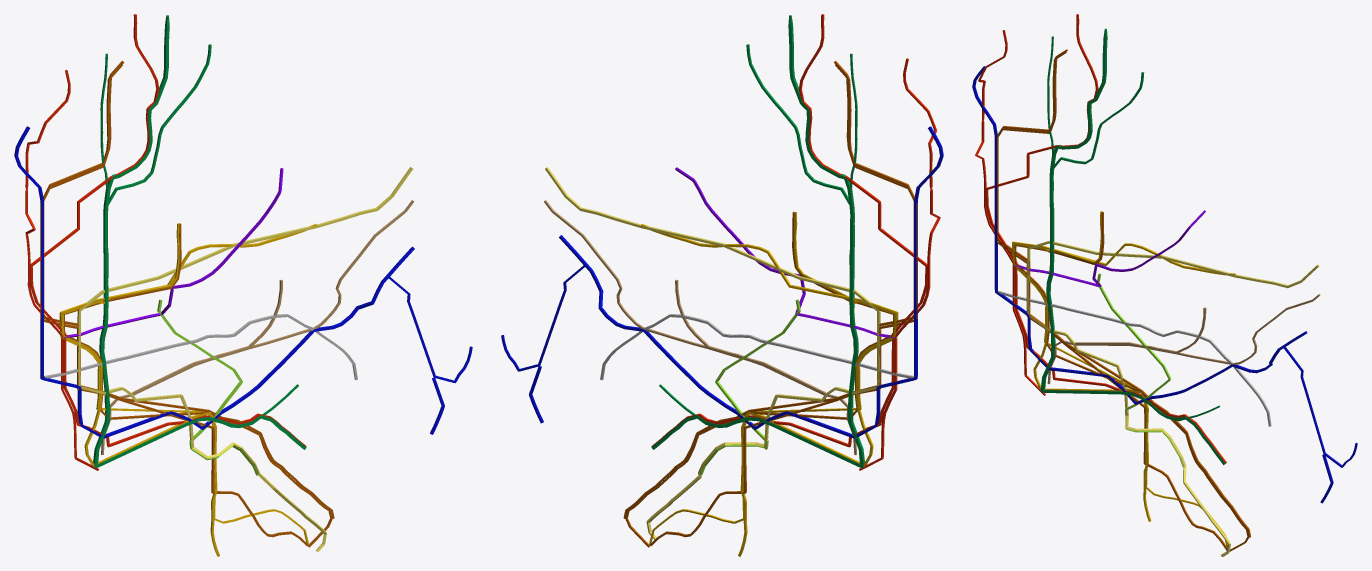
File: MTA.glb
3 renders of one model, left to right at view 1: azimuth 30°, elevation 25°; view 2: azimuth 150°, elevation 25°; view 3: azimuth 330°, elevation 25°, orthographic. The views are drawn at different scales.
Parts seen in each view (by area): view 1: 5, F, A, 2, R, D, B, 1, N, Q, L, JZ (+6 smaller); view 2: 5, A, F, 2, R, D, 1, B, N, L, Q, JZ (+6 smaller); view 3: F, 5, A, 2, B, R, D, 1, L, Q, N, 6 (+5 smaller).
Part boxes in pixels (box(x1,y1,x2,y2)): 5: box(93, 15, 306, 468); F: box(77, 167, 412, 552); A: box(14, 126, 414, 438); 2: box(30, 14, 306, 447); R: box(61, 224, 316, 556); D: box(40, 64, 308, 546); B: box(43, 60, 334, 518); 1: box(25, 69, 98, 470); N: box(59, 223, 309, 545); Q: box(63, 223, 332, 547); L: box(44, 314, 357, 379); JZ: box(101, 200, 414, 454); 5: box(651, 15, 864, 468); A: box(559, 126, 943, 438); F: box(545, 167, 880, 539); 2: box(651, 14, 927, 447); R: box(641, 224, 896, 556); D: box(650, 64, 917, 545); 1: box(859, 58, 940, 470); B: box(623, 61, 914, 518); N: box(649, 212, 898, 545); L: box(600, 314, 913, 379); Q: box(625, 211, 894, 547); JZ: box(544, 200, 856, 454); F: box(1027, 240, 1319, 556); 5: box(1040, 28, 1226, 465); A: box(972, 66, 1307, 404); 2: box(985, 14, 1226, 463); B: box(997, 49, 1250, 537); R: box(1012, 243, 1235, 521); D: box(997, 52, 1226, 550); 1: box(975, 30, 1045, 395); L: box(998, 290, 1271, 426); Q: box(1014, 211, 1248, 551); N: box(1012, 211, 1227, 547); 6: box(1043, 72, 1144, 389).
Size of what is drawn, in the model's own units: 32.94 by 40.28 by 1.23.
